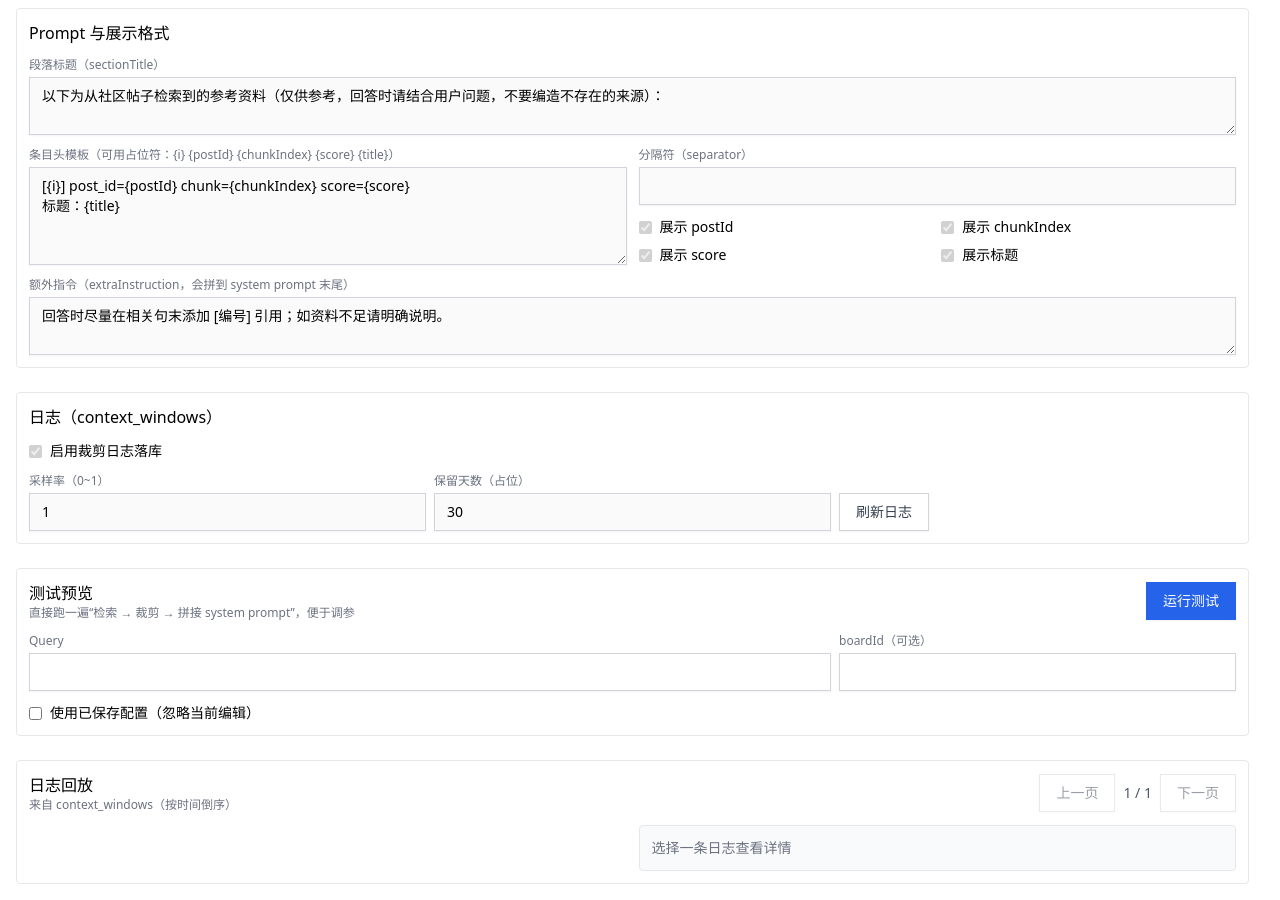
Test case: ContextClipForm › 测试预览提交映射并回显新增字段
(page scrolled)
Type "如何调参" into the field below "Query" at (430, 672), box [29,653,831,691]
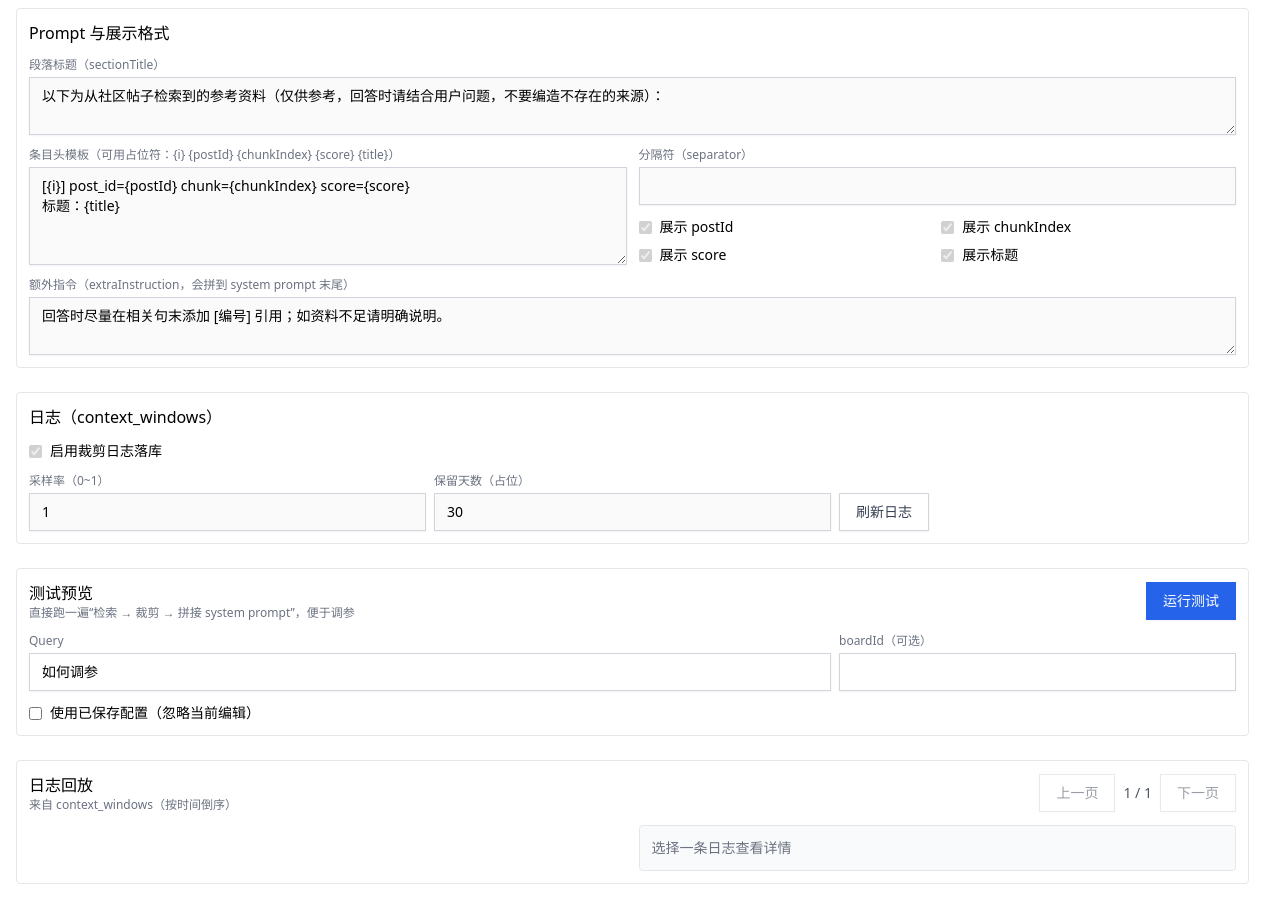
Type "12" into the field below "boardId（可选）" at (1038, 672), box [839,653,1236,691]
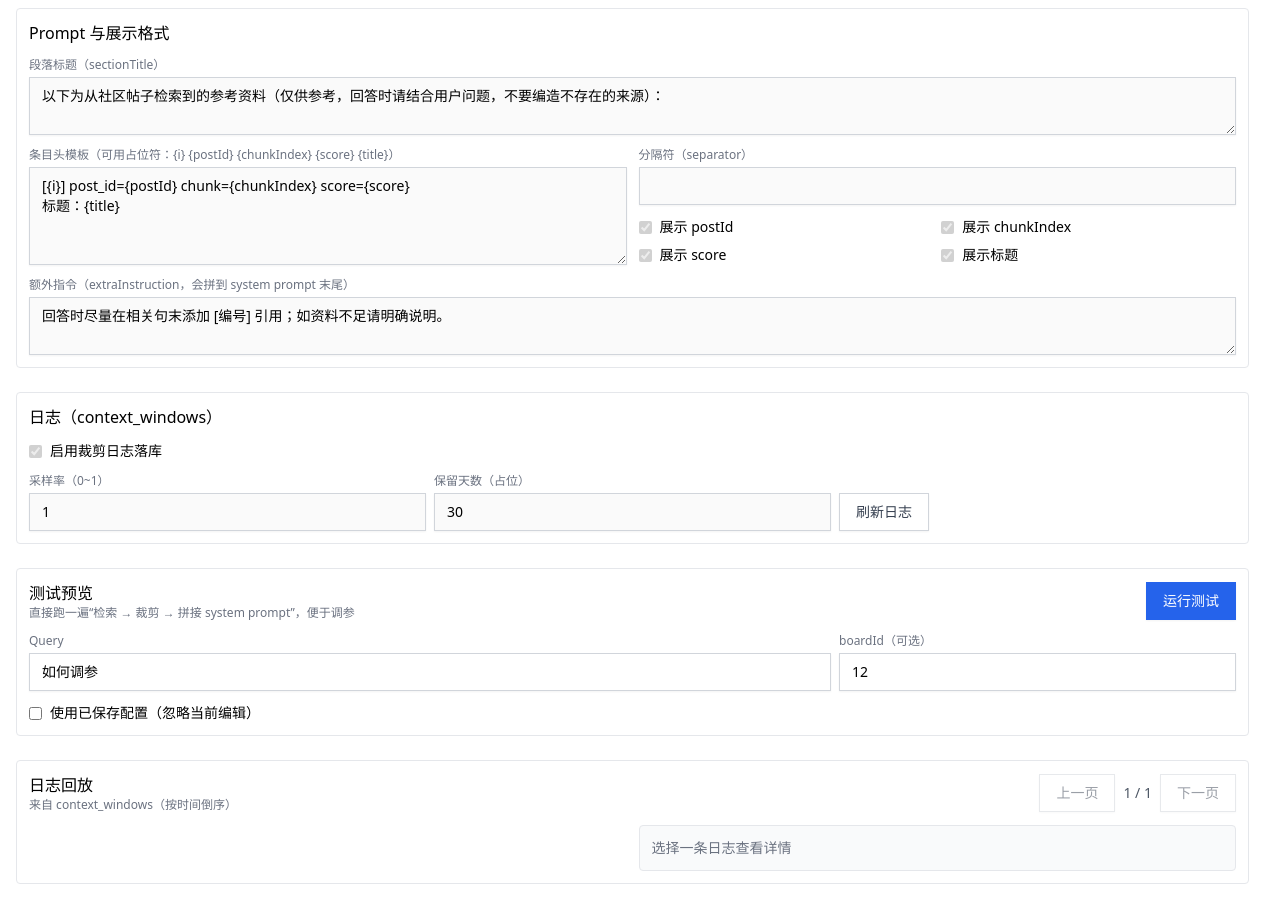
Click the button "运行测试" at (1191, 601), box [1146,582,1236,620]
(page scrolled)
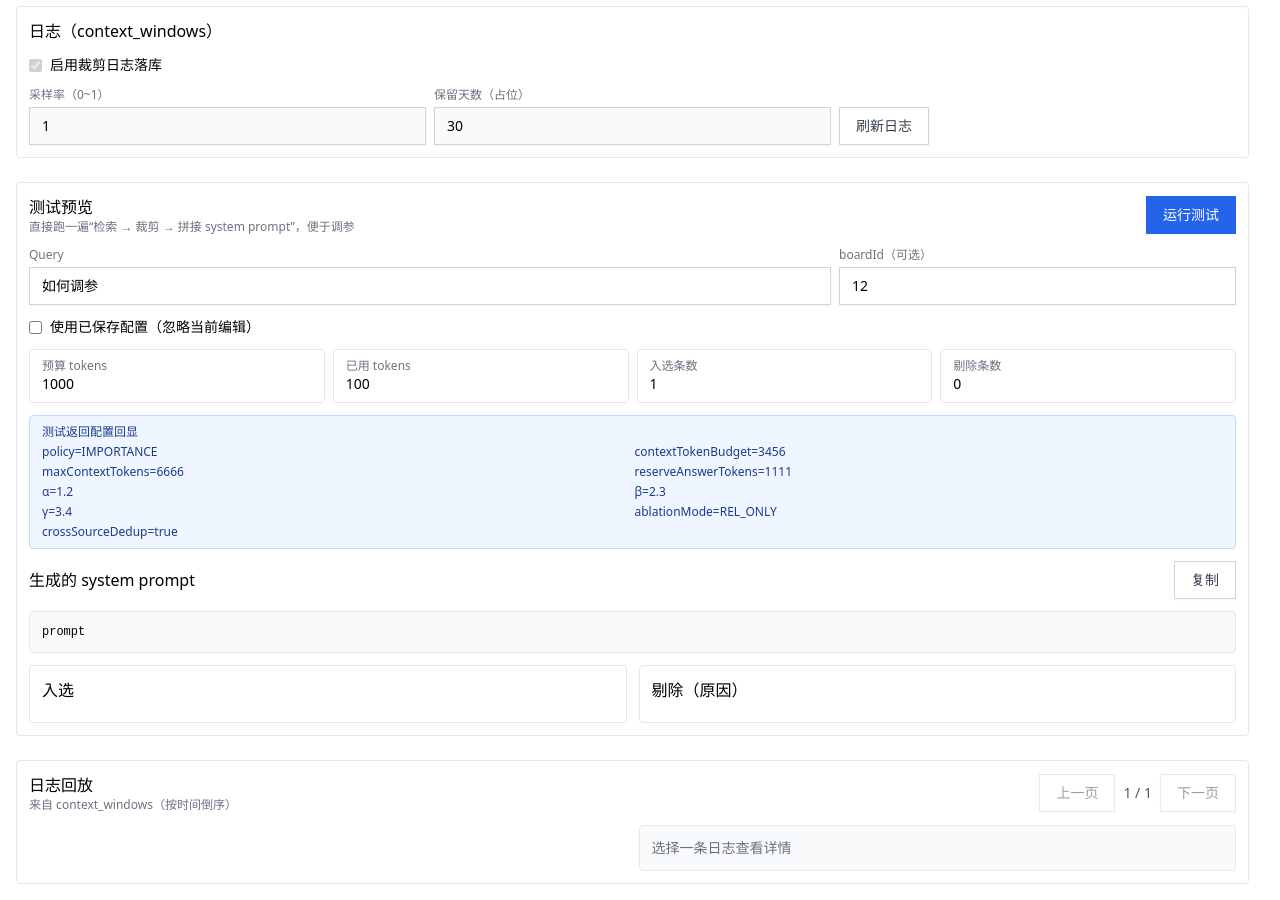
Now the text "ablationMode=REL_ONLY" is shown, box [634,503,777,520]
Now the text "crossSourceDedup=true" is shown, box [42,523,178,540]
